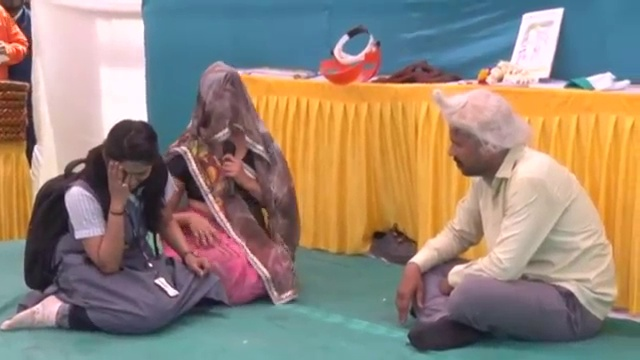helmet_off: (438, 90, 522, 177), (98, 115, 161, 194), (195, 66, 252, 135), (0, 0, 26, 19)
person: (391, 88, 627, 340), (152, 61, 302, 316), (11, 118, 190, 329), (0, 7, 27, 82)
